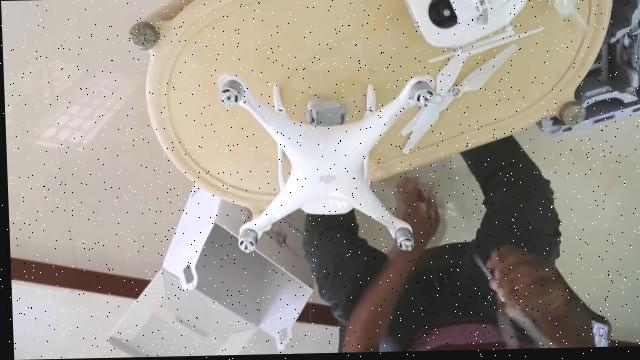drone: (156, 46, 520, 275)
